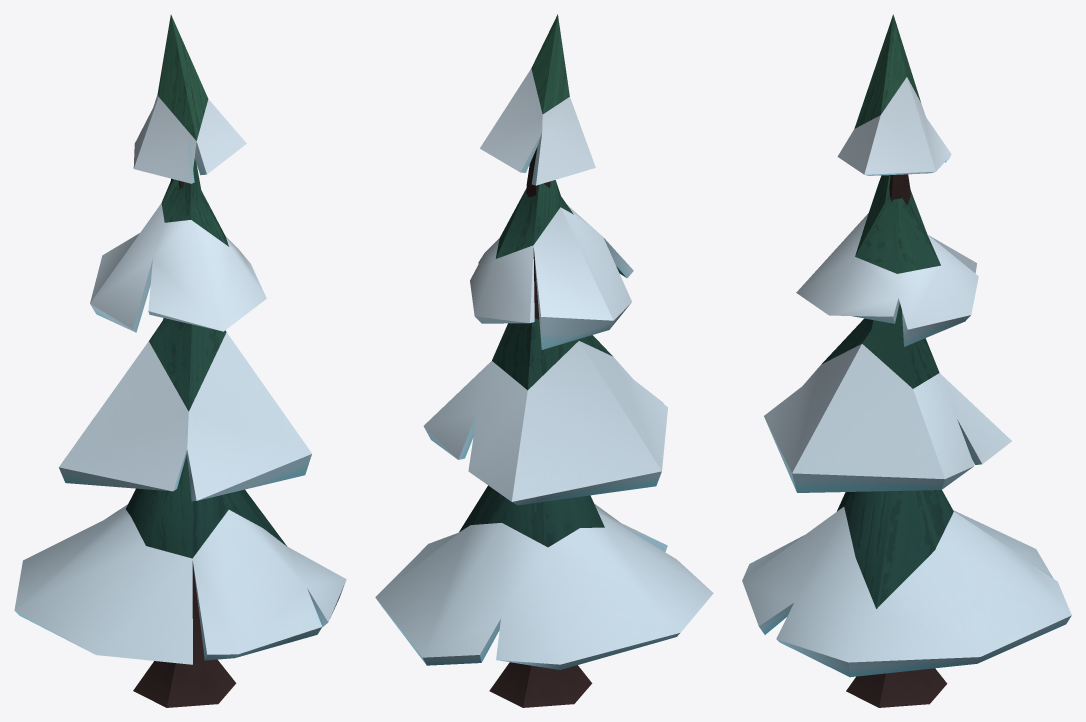
Rendered from SnowTree2.fbx.
3 renders of one model, left to right at view 1: azimuth 30°, elevation 25°; view 2: azimuth 150°, elevation 25°; view 3: azimuth 270°, elevation 25°, orthographic.
Parts seen in each view (by area): view 1: SnowTree2; view 2: SnowTree2; view 3: SnowTree2.
Part boxes in pixels (x1,y1,x2,y2): SnowTree2: (14, 14, 346, 707); SnowTree2: (375, 14, 713, 707); SnowTree2: (742, 14, 1071, 707).
Size of the model in its own units: 454 by 1006 by 451.
